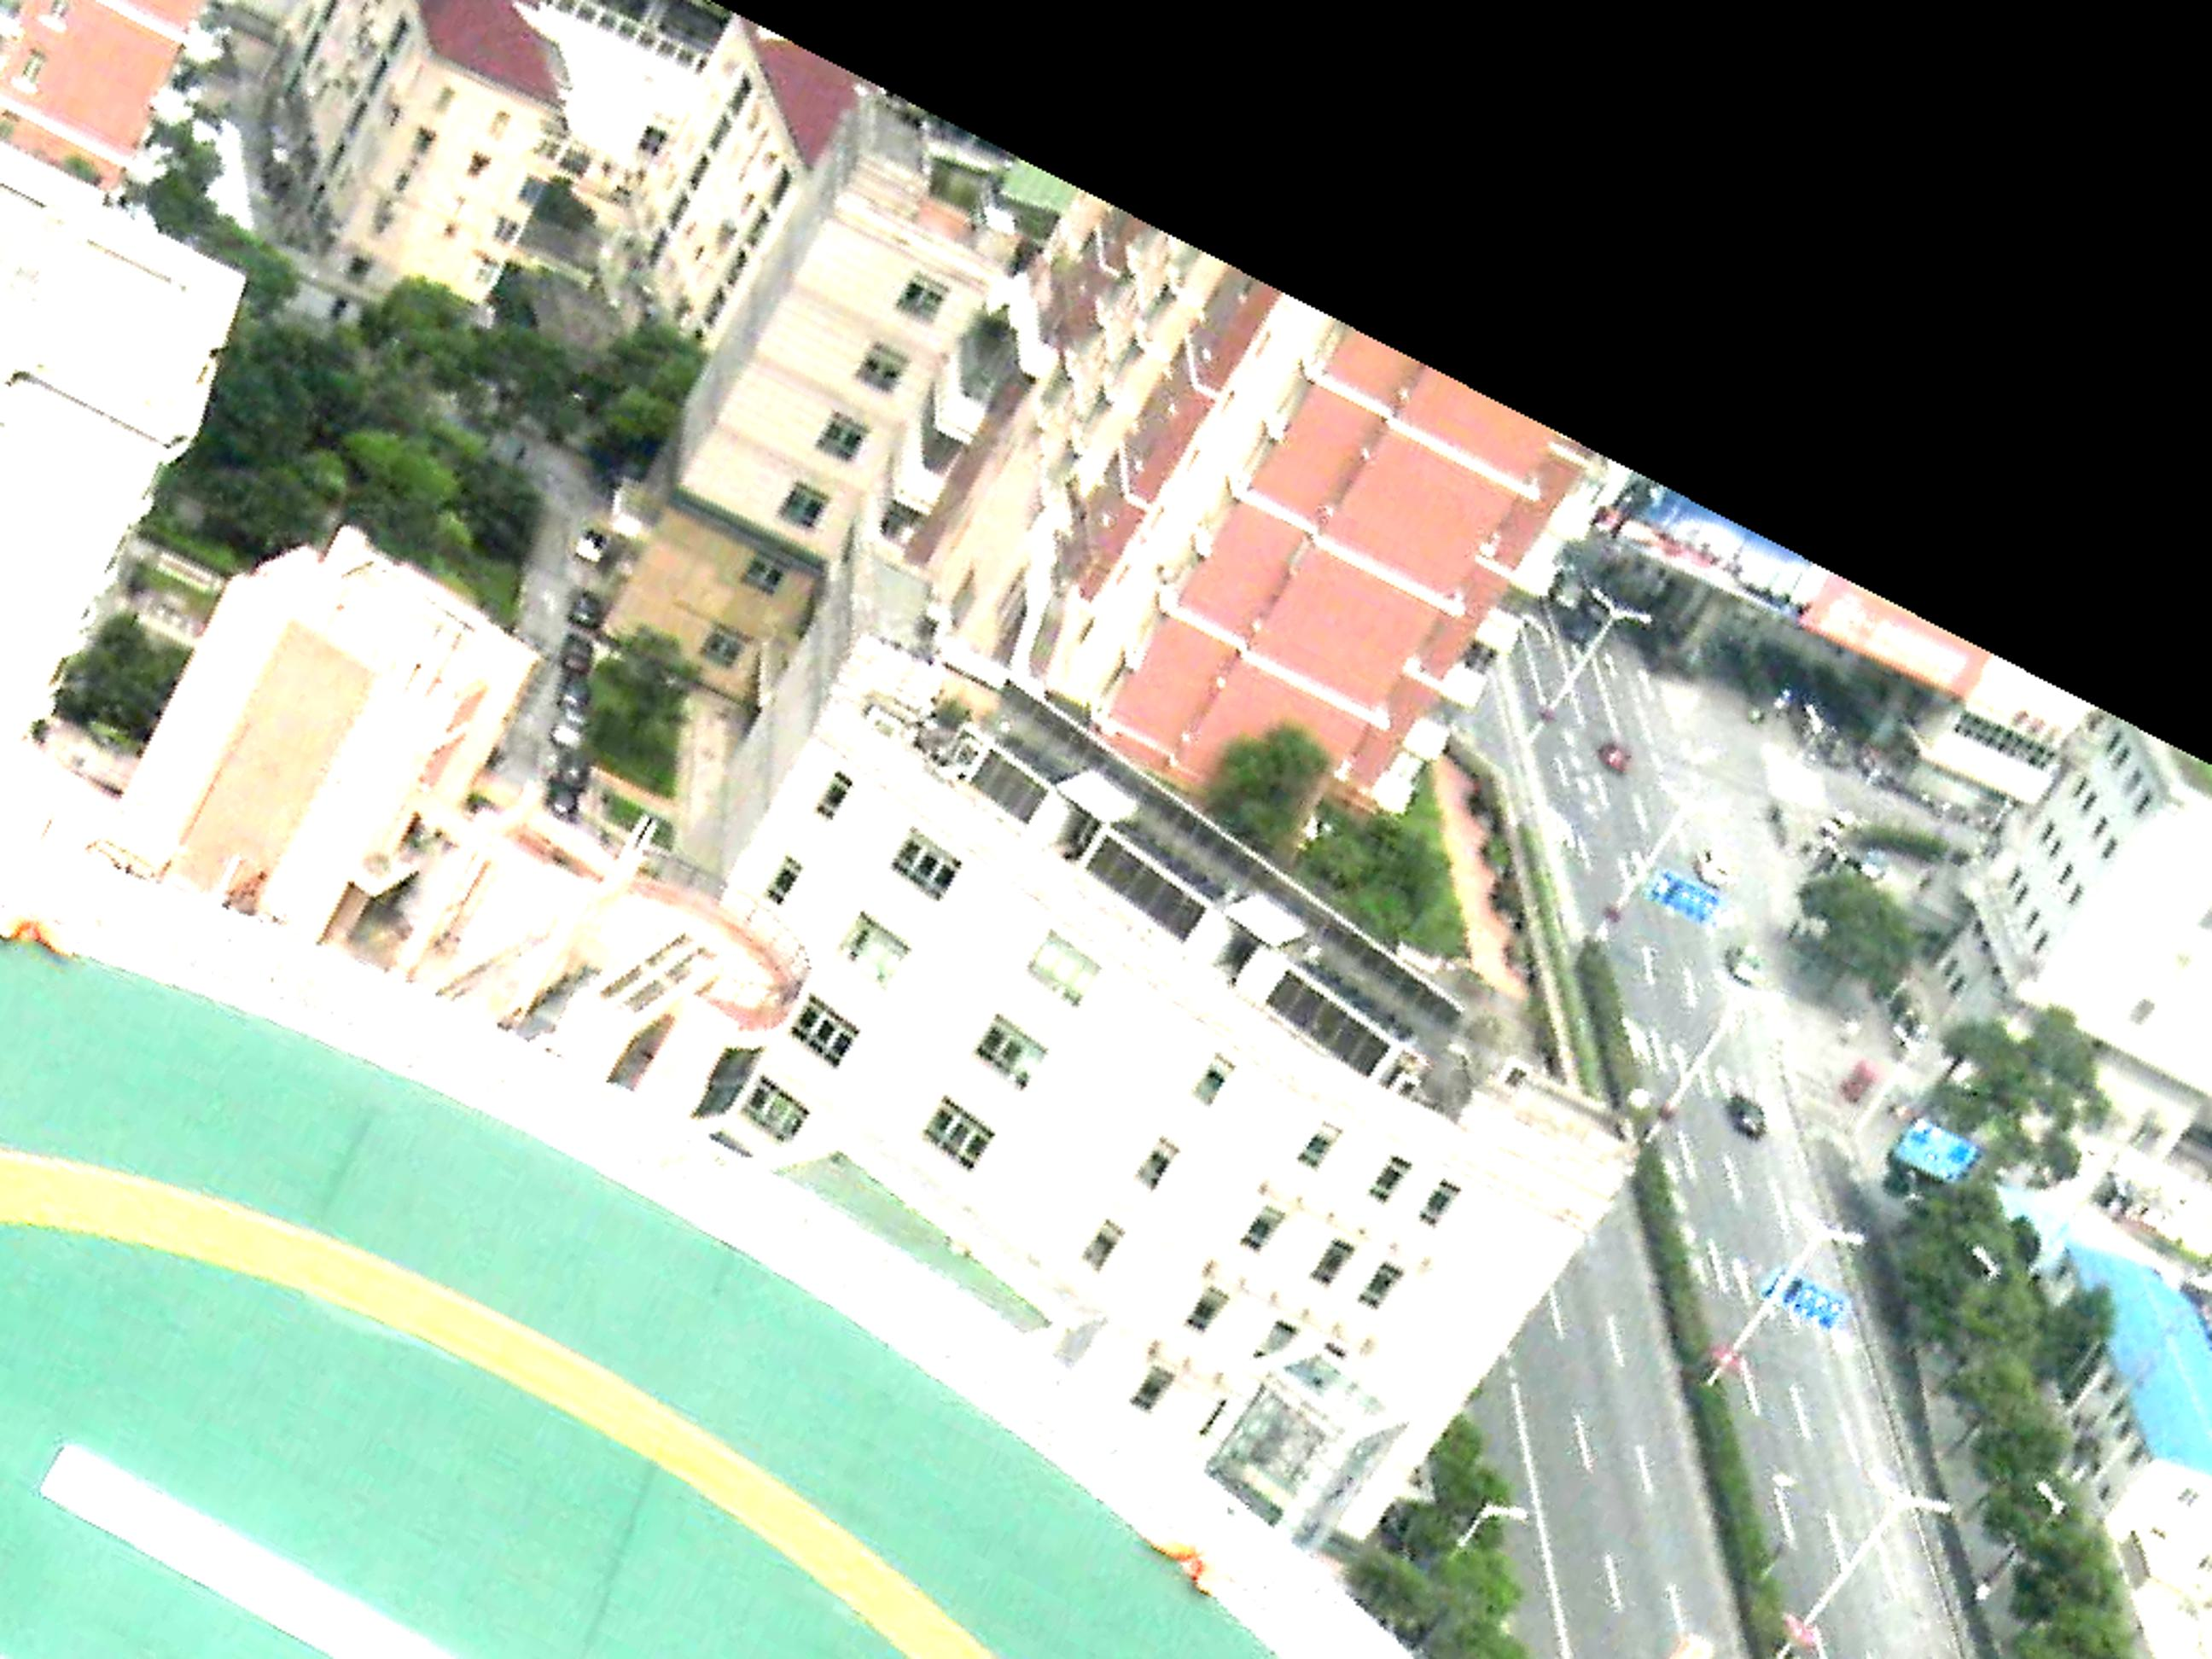Apron: (5, 1079, 1015, 1659)
